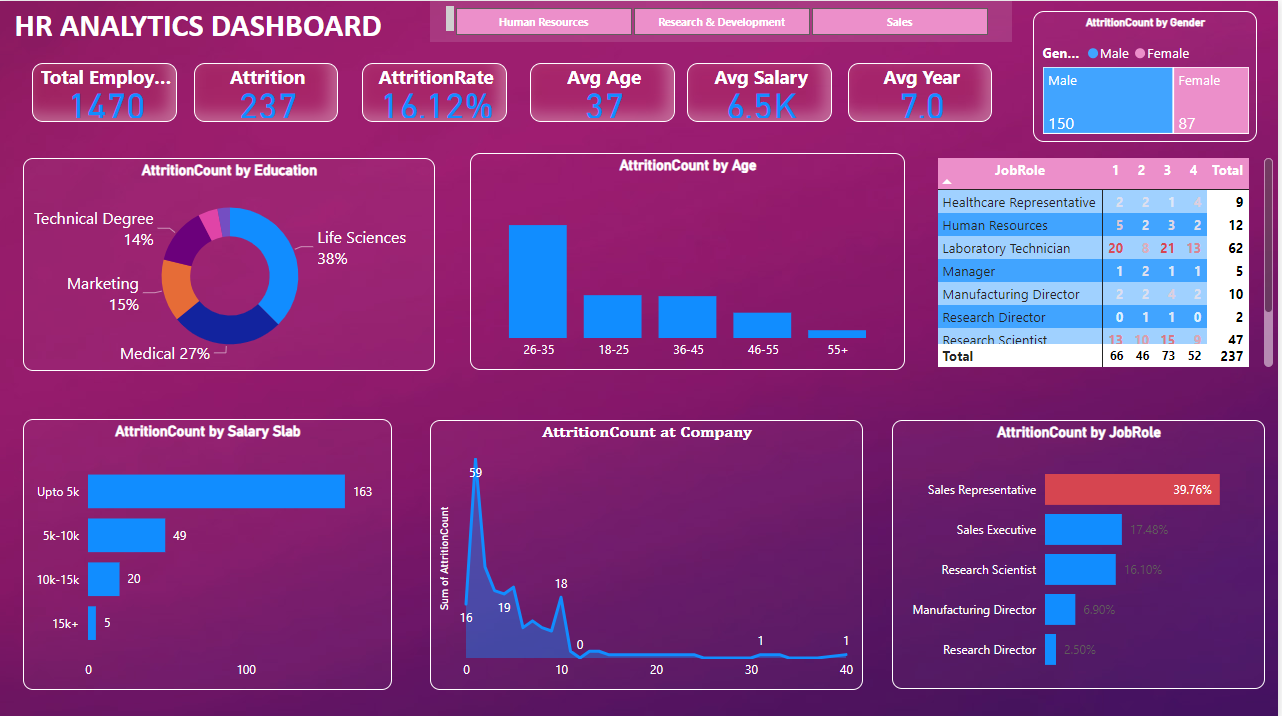

The page's visual inventory and layout, read from the dashboard file:
{"tool":"powerbi","page":{"name":"Page 1","canvas":[1280,720],"ordinal":0},"visuals":[{"type":"card","title":"Total Employee","fields":{"Values":["CountNonNull(HR_Analytics.EmpID)"]},"box":[34,62.3,145,59],"z":0},{"type":"card","title":"Attrition","fields":{"Values":["Sum(HR_Analytics.AttritionCount)"]},"box":[195.5,61.9,144.9,59.1],"z":1000},{"type":"card","title":"Avg Age","fields":{"Values":["Avg(HR_Analytics.Age)"]},"box":[531.7,61.9,144.9,59.1],"z":2000},{"type":"card","title":"AttritionRate","fields":{"Values":["HR_Analytics.AttritionRate"]},"box":[364.3,61.9,144.9,59.1],"z":3000},{"type":"card","title":"Avg Salary","fields":{"Values":["Avg(HR_Analytics.MonthlyIncome)"]},"box":[689.2,61.9,144.9,59.1],"z":4000},{"type":"card","title":"Avg Year","fields":{"Values":["Avg(HR_Analytics.YearsAtCompany)"]},"box":[849.6,61.9,144.9,59.1],"z":5000},{"type":"donutChart","title":" AttritionCount by Education","fields":{"Category":["HR_Analytics.EducationField"],"Y":["Sum(HR_Analytics.AttritionCount)"]},"box":[25.2,157,411.6,213.3],"z":6000},{"type":"pivotTable","title":" AttritionCount by Education","fields":{"Rows":["HR_Analytics.JobRole"],"Columns":["HR_Analytics.JobSatisfaction"],"Values":["Sum(HR_Analytics.AttritionCount)"]},"box":[935.3,152.2,344.7,218.7],"z":7000},{"type":"columnChart","title":" AttritionCount by Age","fields":{"Y":["Sum(HR_Analytics.AttritionCount)"],"Category":["HR_Analytics.AgeGroup"]},"box":[471.9,151.9,434.7,217.4],"z":8000},{"type":"clusteredBarChart","title":" AttritionCount by Salary Slab","fields":{"Y":["Sum(HR_Analytics.AttritionCount)"],"Category":["HR_Analytics.SalarySlab"]},"box":[24.8,417.6,368.9,271.3],"z":9000},{"type":"clusteredBarChart","title":" AttritionCount by JobRole","fields":{"Category":["HR_Analytics.JobRole"],"Y":["HR_Analytics.AttritionRate"]},"box":[894,419.3,372.9,269.1],"z":10000},{"type":"areaChart","title":" AttritionCount at Company","fields":{"Y":["Sum(HR_Analytics.AttritionCount)"],"Category":["HR_Analytics.YearsAtCompany"]},"box":[431.8,419.4,432.7,269.6],"z":11000},{"type":"textbox","box":[11.5,0,449.6,40.8],"z":12000},{"type":"slicer","fields":{"Values":["HR_Analytics.Department"]},"box":[431.8,0,582.3,40.8],"z":13000},{"type":"treemap","title":" AttritionCount by Gender","fields":{"Group":["HR_Analytics.Gender"],"Values":["Sum(HR_Analytics.AttritionCount)"]},"box":[1035.3,9.8,223.6,130.8],"z":14000}]}

Visuals, with their boxes in screenshot pixels (x1, y1, x2, y2), scaled from the page's 1280x720 canvas onto the 1282x716 screenshot:
"Total Employee" card: crop(34, 62, 179, 121)
"Attrition" card: crop(196, 62, 341, 120)
"Avg Age" card: crop(533, 62, 678, 120)
"AttritionRate" card: crop(365, 62, 510, 120)
"Avg Salary" card: crop(690, 62, 835, 120)
"Avg Year" card: crop(851, 62, 996, 120)
" AttritionCount by Education" donutChart: crop(25, 156, 437, 368)
" AttritionCount by Education" pivotTable: crop(937, 151, 1281, 369)
" AttritionCount by Age" columnChart: crop(473, 151, 908, 367)
" AttritionCount by Salary Slab" clusteredBarChart: crop(25, 415, 394, 685)
" AttritionCount by JobRole" clusteredBarChart: crop(895, 417, 1269, 685)
" AttritionCount at Company" areaChart: crop(432, 417, 866, 685)
textbox: crop(12, 0, 462, 41)
slicer - HR_Analytics.Department: crop(432, 0, 1016, 41)
" AttritionCount by Gender" treemap: crop(1037, 10, 1261, 140)
